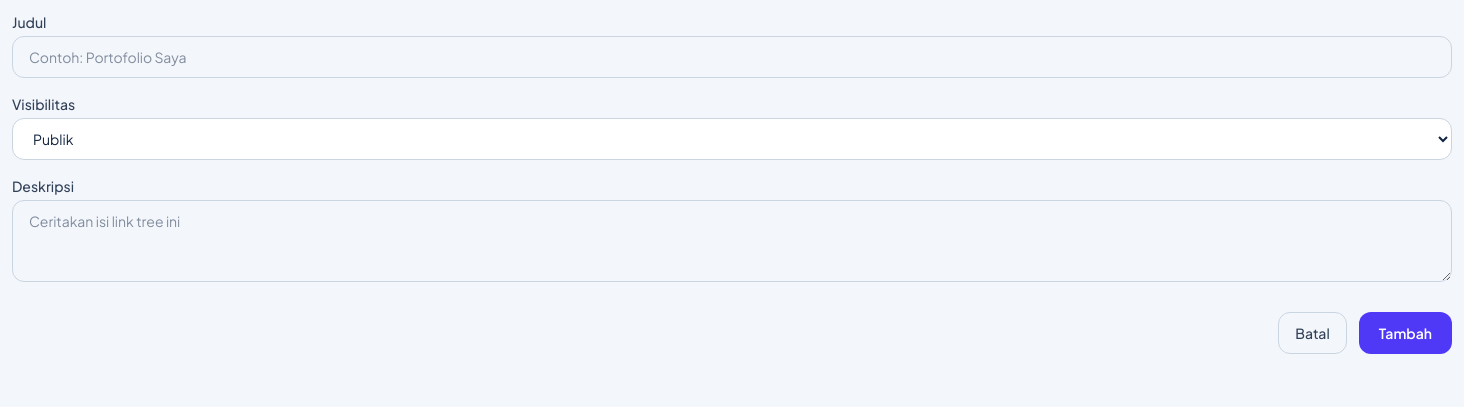
Scenario: LinkTreeForm › menampilkan error bila judul kosong
Click the button "Tambah". click: (1405, 333)
box: [1359,312,1452,354]
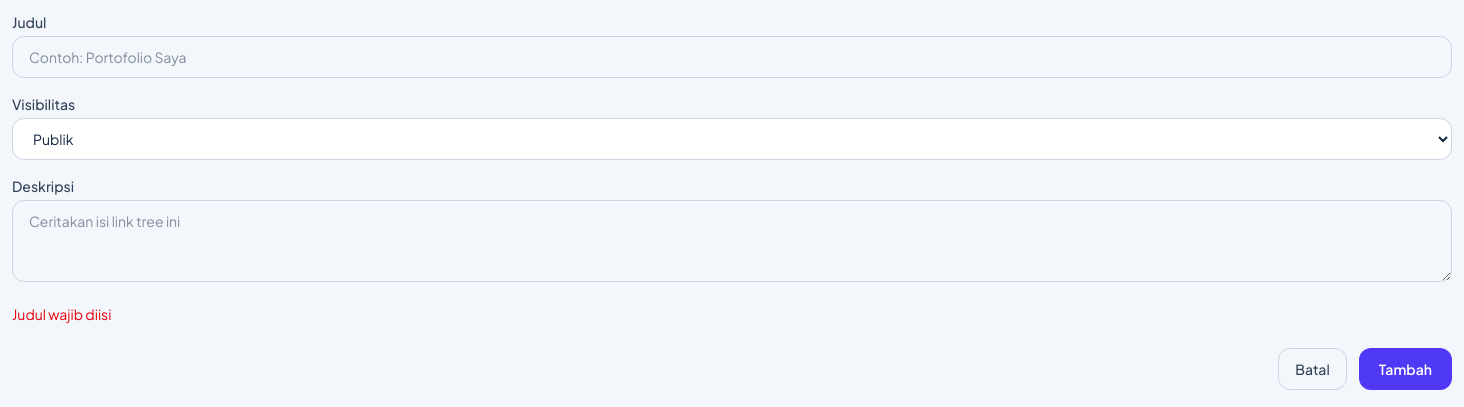
Now the message reads "Judul wajib diisi", box [12,305,111,323]
